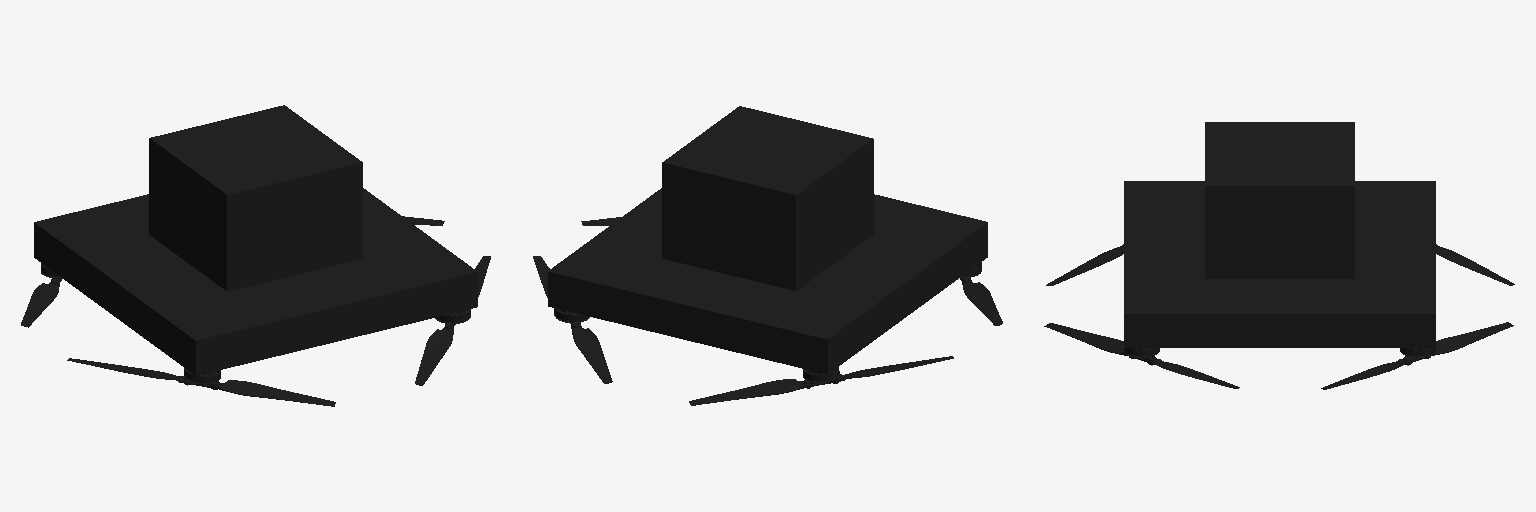
The robot description file, URDF, robot "astro_max":
<?xml version="1.0" encoding="utf-8"?>
<robot
  name="astro_max">
  <link
    name="body_frd">
    <inertial>
      <origin
        xyz="0 0 0"
        rpy="0 0 0" />
      <mass
        value="8.18" />
      <inertia
        ixx="1.43E-01"
        ixy="3.26E-09"
        ixz="2.33E-10"
        iyy="1.43E-01"
        iyz="9.31E-10"
        izz="2.59E-01" />
    </inertial>
    <visual>
      <origin
        xyz="0 0 0"
        rpy="0 0 0" />
      <geometry>
        <mesh
          filename="meshes/visual/body_frd.STL" />
      </geometry>
      <material
        name="">
        <color
          rgba="0.15 0.15 0.15 1" />
      </material>
    </visual>
    <visual>
      <origin
        xyz="0 0 0"
        rpy="0 0 0" />
      <geometry>
        <mesh
          filename="meshes/visual/sl8_top_labels.STL" />
      </geometry>
      <material
        name="">
        <color
          rgba="1 1 0 1" />
      </material>
    </visual>
    <visual>
      <origin
        xyz="0 0 0"
        rpy="0 0 0" />
      <geometry>
        <mesh
          filename="meshes/visual/leds_front.STL" />
      </geometry>
      <material
        name="">
        <color
          rgba="0 1 0 1" />
      </material>
    </visual>
    <visual>
      <origin
        xyz="0 0 0"
        rpy="0 0 0" />
      <geometry>
        <mesh
          filename="meshes/visual/leds_back.STL" />
      </geometry>
      <material
        name="">
        <color
          rgba="1 0 0 1" />
      </material>
    </visual>
    <collision>
      <origin
        xyz="0 0 0"
        rpy="0 0 0" />
      <geometry>
        <mesh
          filename="meshes/collision/body_frd.STL" />
      </geometry>
    </collision>
  </link>
  <link
    name="rotor_1_ccw">
    <inertial>
      <origin
        xyz="0 0 0"
        rpy="0 0 0" />
      <mass
        value="0.25" />
      <inertia
        ixx="1.52E-04"
        ixy="0"
        ixz="0"
        iyy="1.52E-04"
        iyz="0"
        izz="2.01E-04" />
    </inertial>
    <visual>
      <origin
        xyz="0 0 0"
        rpy="0 0 0" />
      <geometry>
        <mesh
          filename="meshes/visual/rotor_ccw.STL" />
      </geometry>
      <material
        name="">
        <color
          rgba="0.15 0.15 0.15 1" />
      </material>
    </visual>
    <visual>
      <origin
        xyz="0 0 0"
        rpy="0 0 0" />
      <geometry>
        <mesh
          filename="meshes/visual/prop_bolts_ccw.STL" />
      </geometry>
      <material
        name="">
        <color
          rgba="0.75 0.75 0.75 1" />
      </material>
    </visual>
    <collision>
      <origin
        xyz="0 0 0"
        rpy="0 0 0" />
      <geometry>
        <mesh
          filename="meshes/collision/rotor_ccw.STL" />
      </geometry>
    </collision>
  </link>
  <joint
    name="rotor_1_ccw_joint"
    type="continuous">
    <origin
      xyz="0.30272 0.3008 -0.067498"
      rpy="3.0984 -0.043222 0" />
    <parent
      link="body_frd" />
    <child
      link="rotor_1_ccw" />
    <axis
      xyz="0 0 1" />
  </joint>
  <link
    name="rotor_2_cw">
    <inertial>
      <origin
        xyz="0 0 0"
        rpy="0 0 0" />
      <mass
        value="0.25" />
      <inertia
        ixx="1.52E-04"
        ixy="0"
        ixz="0"
        iyy="1.52E-04"
        iyz="0"
	izz="2.01E-04" />
    </inertial>
    <visual>
      <origin
        xyz="0 0 0"
        rpy="0 0 0" />
      <geometry>
        <mesh
          filename="meshes/visual/rotor_cw.STL" />
      </geometry>
      <material
        name="">
        <color
          rgba="0.15 0.15 0.15 1" />
      </material>
    </visual>
    <visual>
      <origin
        xyz="0 0 0"
        rpy="0 0 0" />
      <geometry>
        <mesh
          filename="meshes/visual/prop_bolts_cw.STL" />
      </geometry>
      <material
        name="">
        <color
          rgba="0.75 0.75 0.75 1" />
      </material>
    </visual>
    <collision>
      <origin
        xyz="0 0 0"
        rpy="0 0 0" />
      <geometry>
        <mesh
          filename="meshes/collision/rotor_cw.STL" />
      </geometry>
    </collision>
  </link>
  <joint
    name="rotor_2_cw_joint"
    type="continuous">
    <origin
      xyz="-0.30272 0.3008 -0.067498"
      rpy="-0.043181 0.043222 0" />
    <parent
      link="body_frd" />
    <child
      link="rotor_2_cw" />
    <axis
      xyz="0 0 1" />
  </joint>
  <link
    name="rotor_3_ccw">
    <inertial>
      <origin
        xyz="0 0 0"
        rpy="0 0 0" />
      <mass
        value="0.25"/>
      <inertia
        ixx="1.52E-04"
        ixy="0"
        ixz="0"
        iyy="1.52E-04"
        iyz="0"
        izz="1.52E-04" />
    </inertial>
    <visual>
      <origin
        xyz="0 0 0"
        rpy="0 0 0" />
      <geometry>
        <mesh
          filename="meshes/visual/rotor_ccw.STL" />
      </geometry>
      <material
        name="">
        <color
          rgba="0.15 0.15 0.15 1" />
      </material>
    </visual>
    <visual>
      <origin
        xyz="0 0 0"
        rpy="0 0 0" />
      <geometry>
        <mesh
          filename="meshes/visual/prop_bolts_ccw.STL" />
      </geometry>
      <material
        name="">
        <color
          rgba="0.75 0.75 0.75 1" />
      </material>
    </visual>
    <collision>
      <origin
        xyz="0 0 0"
        rpy="0 0 0" />
      <geometry>
        <mesh
          filename="meshes/collision/rotor_ccw.STL" />
      </geometry>
    </collision>
  </link>
  <joint
    name="rotor_3_ccw_axis"
    type="continuous">
    <origin
      xyz="-0.30272 -0.3008 -0.067498"
      rpy="-3.0984 0.043222 0" />
    <parent
      link="body_frd" />
    <child
      link="rotor_3_ccw" />
    <axis
      xyz="0 0 1" />
  </joint>
  <link
    name="rotor_4_cw">
    <inertial>
      <origin
        xyz="0 0 0"
        rpy="0 0 0" />
      <mass
        value="0.25" />
      <inertia
        ixx="1.52E-04"
        ixy="0"
        ixz="0"
        iyy="1.52E-04"
        iyz="0"
        izz="1.52E-04" />
    </inertial>
    <visual>
      <origin
        xyz="0 0 0"
        rpy="0 0 0" />
      <geometry>
        <mesh
          filename="meshes/visual/rotor_cw.STL" />
      </geometry>
      <material
        name="">
        <color
          rgba="0.15 0.15 0.15 1" />
      </material>
    </visual>
    <visual>
      <origin
        xyz="0 0 0"
        rpy="0 0 0" />
      <geometry>
        <mesh
          filename="meshes/visual/prop_bolts_cw.STL" />
      </geometry>
      <material
        name="">
        <color
          rgba="0.75 0.75 0.75 1" />
      </material>
    </visual>
    <collision>
      <origin
        xyz="0 0 0"
        rpy="0 0 0" />
      <geometry>
        <mesh
          filename="meshes/collision/rotor_cw.STL" />
      </geometry>
    </collision>
  </link>
  <joint
    name="rotor_4_cw_joint"
    type="continuous">
    <origin
      xyz="0.30272 -0.3008 -0.067498"
      rpy="0.043181 -0.043222 0" />
    <parent
      link="body_frd" />
    <child
      link="rotor_4_cw" />
    <axis
      xyz="0 0 1" />
  </joint>
</robot>

--- Render facts (derived) ---
3 views of the same robot in one strip: view 1: azimuth 30°, elevation 25°; view 2: azimuth 150°, elevation 25°; view 3: azimuth 270°, elevation 25° (orthographic).
Robot: astro_max — 5 links, 4 joints (4 continuous); root link body_frd; default pose: every joint at zero.
Links seen in each view (by area): view 1: body_frd, rotor_3_ccw, rotor_4_cw, rotor_2_cw; view 2: body_frd, rotor_2_cw, rotor_1_ccw, rotor_3_ccw; view 3: body_frd, rotor_4_cw, rotor_1_ccw, rotor_3_ccw, rotor_2_cw.
Boxes of the visible links, box(x1,y1,x2,y2) form: body_frd: box(34, 105, 477, 375); rotor_3_ccw: box(67, 358, 335, 406); rotor_4_cw: box(415, 256, 490, 385); rotor_2_cw: box(21, 263, 62, 327); body_frd: box(548, 106, 987, 374); rotor_2_cw: box(689, 356, 953, 405); rotor_1_ccw: box(533, 256, 612, 383); rotor_3_ccw: box(960, 262, 1002, 325); body_frd: box(1124, 122, 1435, 347); rotor_4_cw: box(1044, 323, 1239, 388); rotor_1_ccw: box(1321, 322, 1513, 389); rotor_3_ccw: box(1046, 244, 1123, 285); rotor_2_cw: box(1436, 244, 1514, 285).
Size in the robot's own frame: 1.03 by 1.03 by 0.3644 metres.
12 mesh visuals loaded from 8 distinct referenced files (8 binary STL).
